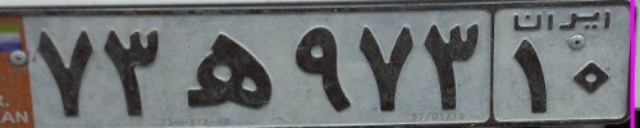0: (569, 60, 613, 94)
1: (508, 37, 550, 112)
3: (102, 28, 165, 116), (422, 23, 479, 109)
7: (34, 28, 94, 118), (356, 25, 414, 113)
9: (292, 25, 348, 111)
he: (180, 31, 277, 111)
